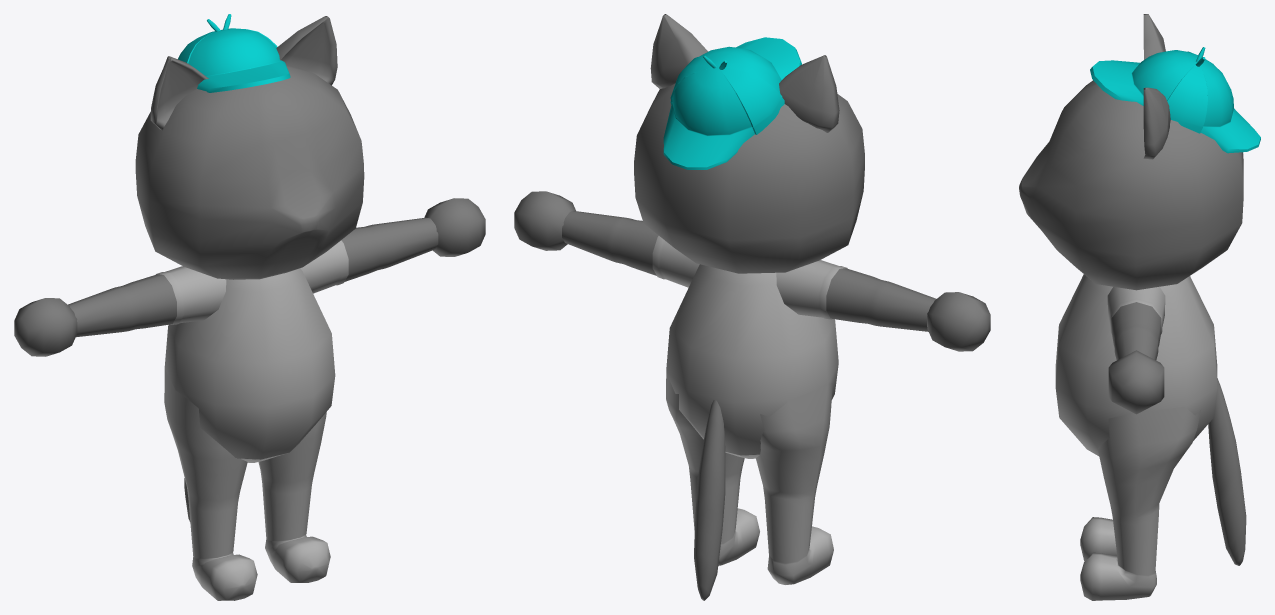
Rendered from Cat Model clothes.fbx.
The picture shows the model from 3 angles, left to right: view 1: azimuth 30°, elevation 25°; view 2: azimuth 150°, elevation 25°; view 3: azimuth 270°, elevation 25°; orthographic projection. The views are drawn at different scales.
Visible parts, largest first — view 1: polySurface19, polySurface16, polySurface28; view 2: polySurface19, polySurface16, polySurface28, polySurface24; view 3: polySurface19, polySurface16, polySurface28, polySurface24.
Boxes of the visible parts, x1,y1,x2,y2 form: polySurface19: [14, 198, 485, 600]; polySurface16: [135, 16, 364, 279]; polySurface28: [178, 14, 290, 92]; polySurface19: [514, 191, 990, 584]; polySurface16: [634, 14, 864, 273]; polySurface28: [663, 37, 801, 169]; polySurface24: [694, 400, 725, 600]; polySurface19: [1055, 274, 1217, 600]; polySurface16: [1019, 14, 1243, 290]; polySurface28: [1090, 47, 1260, 153]; polySurface24: [1208, 378, 1246, 565].
Bounding box in the file's own units: 7.05 × 7.73 × 3.21.
